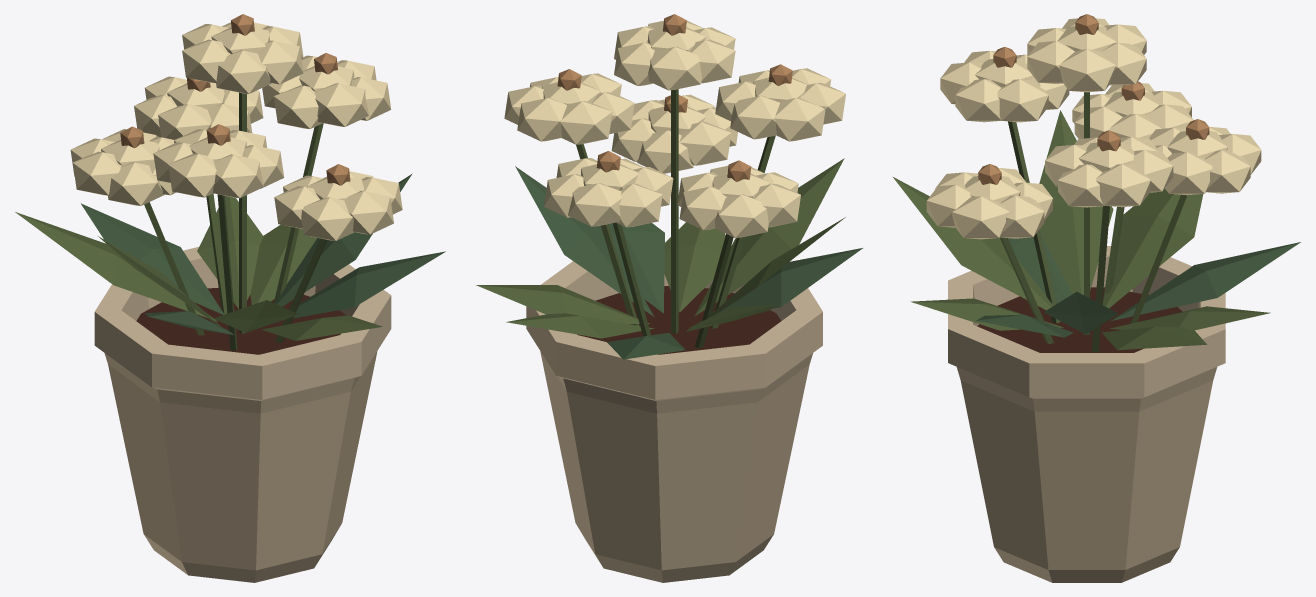
The model's file is planter_02.glb.
3 views of the same model, side by side, from view 1: azimuth 30°, elevation 25°; view 2: azimuth 150°, elevation 25°; view 3: azimuth 270°, elevation 25° (orthographic).
Visible parts, largest first — view 1: Pot, Soil, Leaf_03, Leaf_04, Leaf_09, Leaf_01, Leaf_02, Leaf_00, Petal_01_4, Petal_05_2, Petal_00_4, Petal_04_3 (+33 smaller); view 2: Pot, Soil, Leaf_07, Leaf_00, Leaf_08, Leaf_06, Leaf_01, Leaf_09, Stem_00, Petal_00_2, Leaf_02, Petal_02_1 (+36 smaller); view 3: Pot, Leaf_04, Leaf_05, Leaf_03, Leaf_07, Soil, Petal_05_4, Petal_00_0, Petal_01_0, Leaf_02, Petal_04_5, Leaf_01 (+34 smaller).
Boxes of the visible parts, x1,y1,x2,y2 form: Pot: [94, 247, 391, 582]; Soil: [136, 287, 346, 354]; Leaf_03: [81, 203, 224, 314]; Leaf_04: [15, 212, 217, 321]; Leaf_09: [282, 251, 445, 320]; Leaf_01: [250, 224, 316, 304]; Leaf_02: [197, 196, 263, 308]; Leaf_00: [274, 173, 412, 306]; Petal_01_4: [314, 83, 368, 126]; Petal_05_2: [301, 197, 354, 240]; Petal_00_4: [216, 50, 271, 93]; Petal_04_3: [213, 154, 263, 198]; Pot: [526, 261, 822, 582]; Soil: [577, 286, 780, 354]; Leaf_07: [694, 158, 844, 316]; Leaf_00: [515, 166, 653, 316]; Leaf_08: [664, 222, 725, 312]; Leaf_06: [700, 248, 862, 321]; Leaf_01: [476, 285, 649, 323]; Leaf_09: [608, 223, 664, 313]; Stem_00: [671, 89, 678, 333]; Petal_00_2: [648, 46, 701, 90]; Leaf_02: [506, 313, 654, 338]; Petal_02_1: [568, 183, 621, 226]; Pot: [948, 246, 1225, 582]; Leaf_04: [1102, 188, 1203, 308]; Leaf_05: [1039, 110, 1113, 294]; Leaf_03: [1111, 242, 1300, 320]; Leaf_07: [893, 177, 1053, 310]; Soil: [977, 287, 1182, 352]; Petal_05_4: [952, 196, 1009, 239]; Petal_00_0: [1059, 49, 1115, 92]; Petal_01_0: [1096, 164, 1150, 207]; Leaf_02: [1110, 306, 1270, 330]; Petal_04_5: [997, 79, 1048, 122]; Leaf_01: [1101, 327, 1206, 350].
Bounding box in the file's own units: 0.5523 × 0.8505 × 0.5915.
